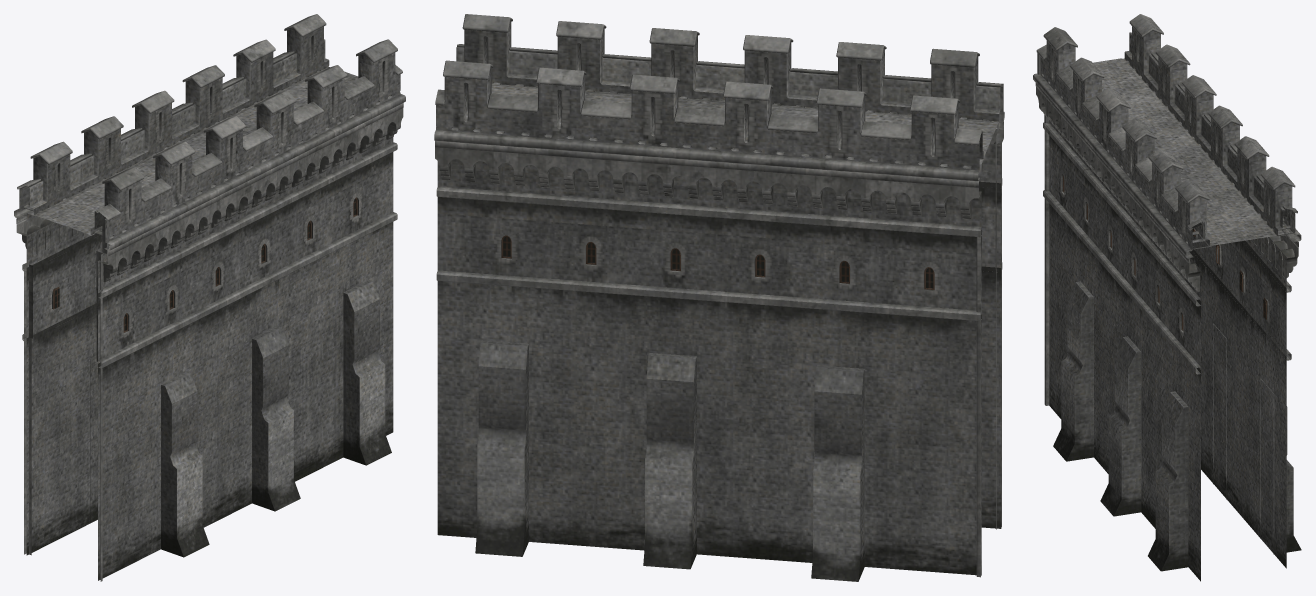
Rendered from Castle_Wall_B_Straight01.fbx.
3 views of the same model, side by side, from view 1: azimuth 30°, elevation 25°; view 2: azimuth 150°, elevation 25°; view 3: azimuth 270°, elevation 25° (orthographic). The views are drawn at different scales.
Visible parts, largest first — view 1: Castle_Wall_B_Straight.001; view 2: Castle_Wall_B_Straight.001; view 3: Castle_Wall_B_Straight.001.
Part boxes in pixels (box(x1,y1,x2,y2)): Castle_Wall_B_Straight.001: box(14, 14, 405, 581); Castle_Wall_B_Straight.001: box(434, 14, 1004, 581); Castle_Wall_B_Straight.001: box(1033, 14, 1301, 581).
Bounding box in the file's own units: 1506 × 1383 × 874.
